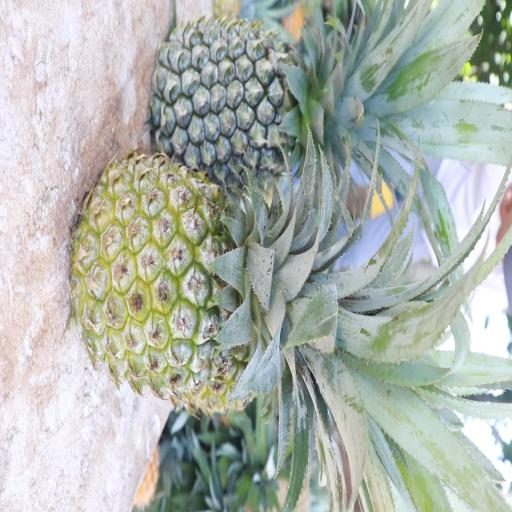------------------------------: (64, 144, 353, 406)
